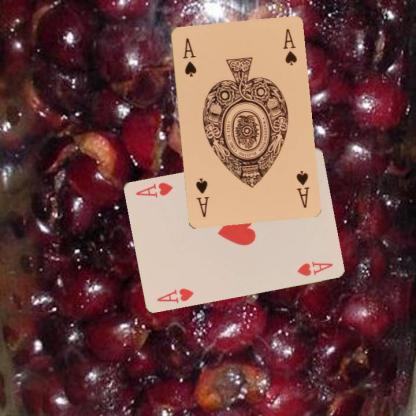Ah: (154, 286, 196, 304)
As: (293, 168, 311, 209), (180, 35, 197, 78)
